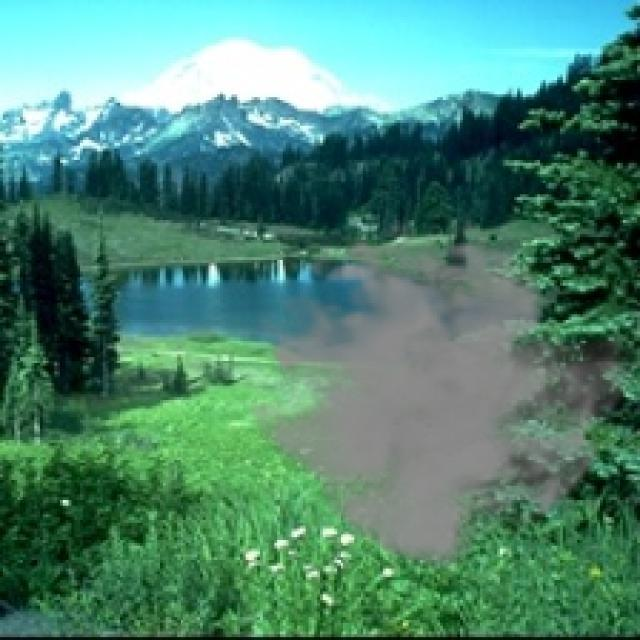Smoke: (232, 217, 637, 577)
